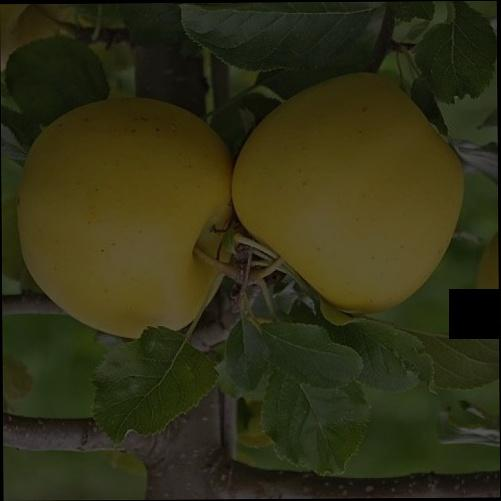green apple: (14, 82, 236, 339), (237, 74, 467, 321)
